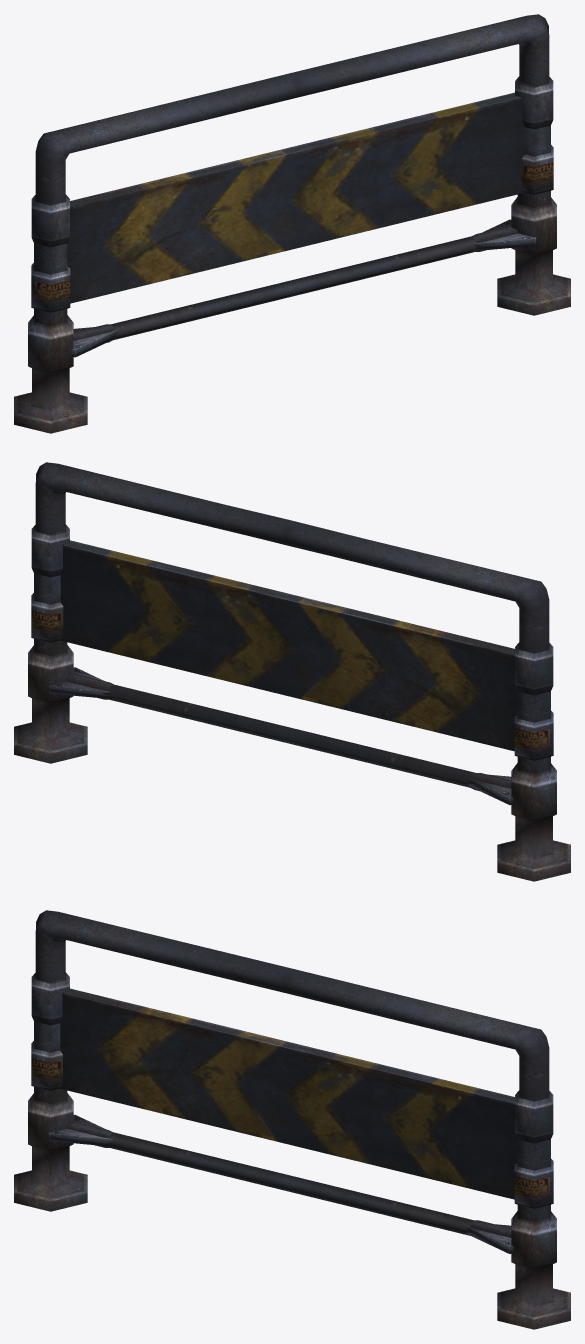
The model's file is 2_ChengZhen_YanTiHuLan_01.FBX.
3 views of the same model, one above another, from view 1: azimuth 30°, elevation 25°; view 2: azimuth 150°, elevation 25°; view 3: azimuth 330°, elevation 25° (orthographic).
Visible parts, largest first — view 1: 2_ChengZhen_YanTiHuLan_01; view 2: 2_ChengZhen_YanTiHuLan_01; view 3: 2_ChengZhen_YanTiHuLan_01.
Part boxes in pixels (<box>): 2_ChengZhen_YanTiHuLan_01: <box>14,14,570,433</box>; 2_ChengZhen_YanTiHuLan_01: <box>14,462,570,881</box>; 2_ChengZhen_YanTiHuLan_01: <box>14,910,570,1329</box>.
Size of the model in its own units: 1.71 by 0.832 by 0.1953.
